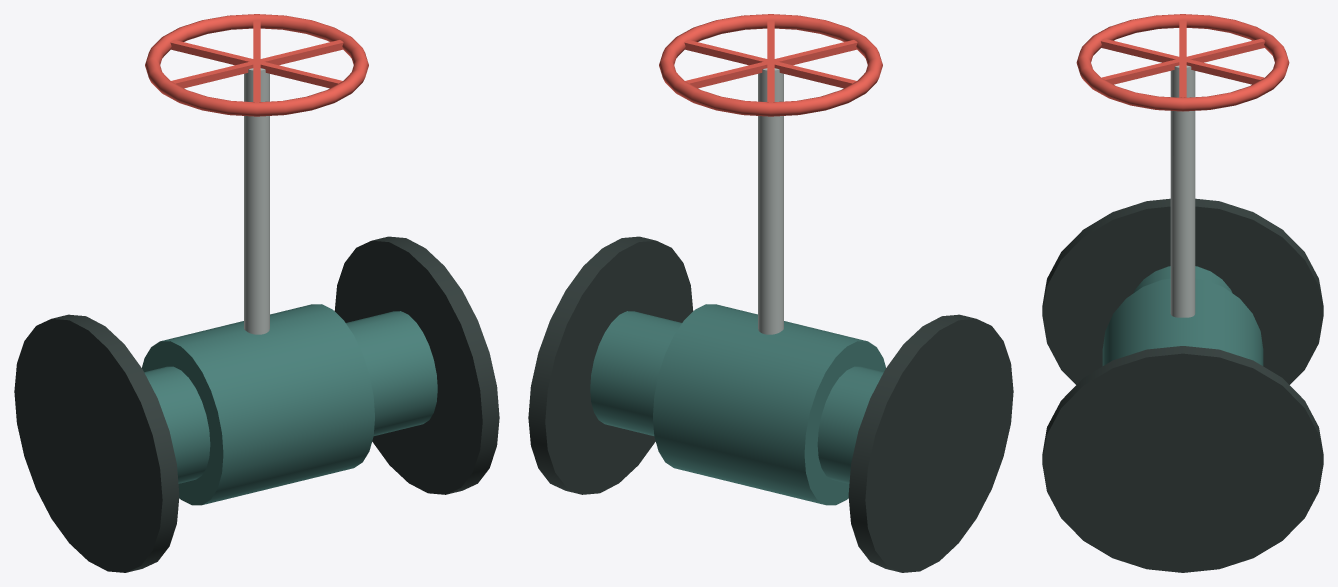
The model's file is valve.glb.
The picture shows the model from 3 angles, left to right: view 1: azimuth 30°, elevation 25°; view 2: azimuth 150°, elevation 25°; view 3: azimuth 270°, elevation 25°; orthographic projection. The views are drawn at different scales.
Visible parts, largest first — view 1: Flange-1, ValveBody, Flange1, FlowBody, Handwheel, Stem, Spoke1, Spoke3, Spoke2; view 2: Flange-1, ValveBody, Flange1, FlowBody, Handwheel, Stem, Spoke1, Spoke2, Spoke3; view 3: Flange1, Flange-1, ValveBody, Handwheel, Stem, Spoke2, Spoke3, FlowBody, Spoke1.
Boxes of the visible parts, box(x1,y1,x2,y2) form: Flange-1: box(14, 314, 179, 572); ValveBody: box(142, 304, 374, 505); Flange1: box(334, 236, 499, 494); FlowBody: box(144, 311, 437, 483); Handwheel: box(145, 14, 368, 116); Stem: box(244, 68, 269, 334); Spoke1: box(171, 40, 343, 88); Spoke3: box(170, 40, 342, 88); Spoke2: box(253, 20, 260, 102); Flange-1: box(848, 314, 1013, 572); ValveBody: box(653, 304, 885, 505); Flange1: box(528, 236, 693, 494); FlowBody: box(590, 311, 883, 483); Handwheel: box(659, 14, 882, 116); Stem: box(758, 68, 783, 334); Spoke1: box(684, 40, 856, 88); Spoke2: box(685, 40, 857, 88); Spoke3: box(767, 20, 774, 102); Flange1: box(1042, 346, 1323, 572); Flange-1: box(1042, 198, 1323, 384); ValveBody: box(1102, 278, 1263, 365); Handwheel: box(1076, 14, 1289, 111); Stem: box(1170, 65, 1195, 317); Spoke2: box(1100, 38, 1264, 84); Spoke3: box(1101, 38, 1265, 84); FlowBody: box(1133, 266, 1232, 293); Spoke1: box(1179, 20, 1186, 97).
Size of the model in its own units: 0.42 by 0.55 by 0.32.
